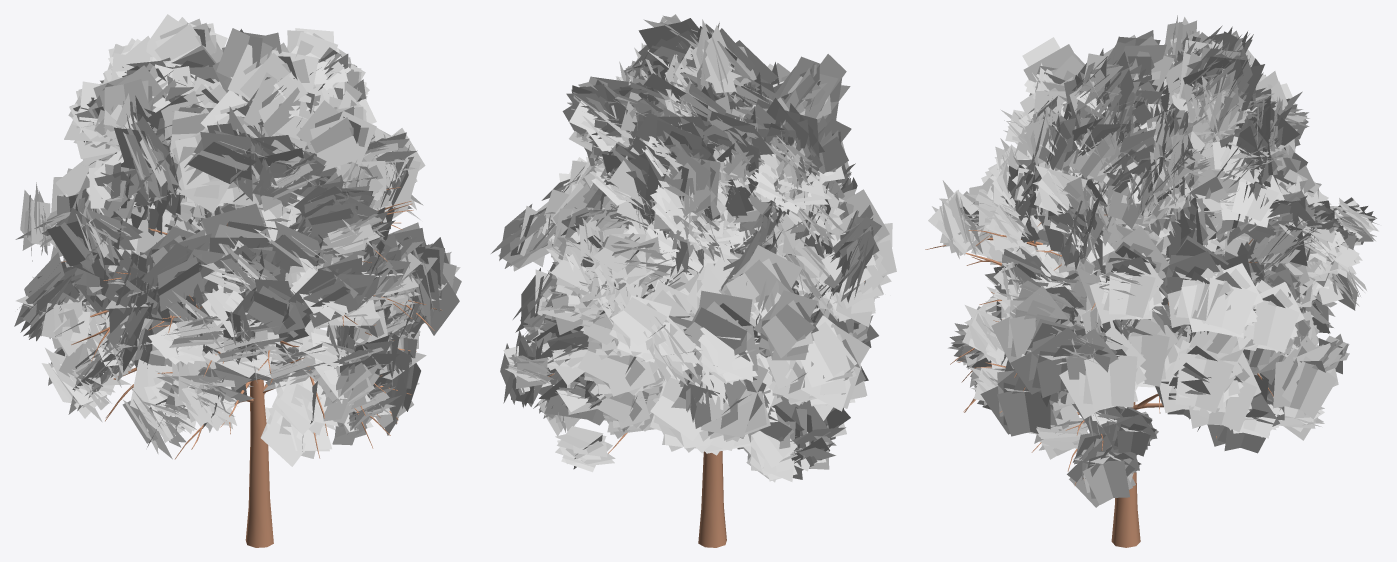
Rendered from test tree.fbx.
3 renders of one model, left to right at view 1: azimuth 30°, elevation 25°; view 2: azimuth 150°, elevation 25°; view 3: azimuth 270°, elevation 25°, orthographic.
Parts seen in each view (by area): view 1: tree.001, stylized leaves.455, stylized leaves.143, stylized leaves.628, stylized leaves.319, stylized leaves.541, stylized leaves.546, stylized leaves.189, stylized leaves.264, stylized leaves.442, stylized leaves.186, stylized leaves.607 (+90 smaller); view 2: stylized leaves.228, stylized leaves.305, stylized leaves.313, stylized leaves.392, stylized leaves.176, stylized leaves.174, stylized leaves.474, stylized leaves.169, stylized leaves.310, stylized leaves.172, stylized leaves.284, stylized leaves.479 (+83 smaller); view 3: stylized leaves.156, stylized leaves.072, stylized leaves.284, stylized leaves.124, stylized leaves.234, stylized leaves.025, stylized leaves.376, stylized leaves.208, stylized leaves.245, tree.001, stylized leaves.080, stylized leaves.619 (+88 smaller).
Part boxes in pixels (left/top/right/bottom): tree.001: left=61, top=187, right=441, bottom=547; stylized leaves.455: left=296, top=100, right=376, bottom=171; stylized leaves.143: left=141, top=228, right=223, bottom=311; stylized leaves.628: left=227, top=42, right=318, bottom=102; stylized leaves.319: left=288, top=252, right=375, bottom=327; stylized leaves.541: left=187, top=130, right=277, bottom=183; stylized leaves.546: left=243, top=72, right=320, bottom=140; stylized leaves.189: left=272, top=373, right=338, bottom=435; stylized leaves.264: left=201, top=203, right=277, bottom=272; stylized leaves.442: left=87, top=65, right=166, bottom=145; stylized leaves.186: left=247, top=279, right=306, bottom=334; stylized leaves.607: left=146, top=14, right=227, bottom=67; stylized leaves.228: left=785, top=315, right=857, bottom=411; stylized leaves.305: left=683, top=290, right=765, bottom=374; stylized leaves.313: left=753, top=290, right=818, bottom=360; stylized leaves.392: left=654, top=146, right=720, bottom=230; stylized leaves.176: left=701, top=365, right=770, bottom=441; stylized leaves.174: left=609, top=295, right=677, bottom=362; stylized leaves.474: left=602, top=137, right=670, bottom=214; stylized leaves.169: left=577, top=324, right=658, bottom=398; stylized leaves.310: left=719, top=245, right=802, bottom=326; stylized leaves.172: left=650, top=375, right=714, bottom=453; stylized leaves.284: left=491, top=204, right=557, bottom=271; stylized leaves.479: left=635, top=107, right=715, bottom=167; stylized leaves.156: left=1059, top=326, right=1146, bottom=419; stylized leaves.072: left=1159, top=336, right=1243, bottom=413; stylized leaves.284: left=1181, top=263, right=1263, bottom=337; stylized leaves.124: left=1273, top=336, right=1338, bottom=419; stylized leaves.234: left=1010, top=319, right=1088, bottom=398; stylized leaves.025: left=980, top=360, right=1062, bottom=436; stylized leaves.376: left=1089, top=253, right=1165, bottom=323; stylized leaves.208: left=1237, top=280, right=1304, bottom=352; stylized leaves.245: left=991, top=285, right=1070, bottom=368; tree.001: left=925, top=214, right=1273, bottom=547; stylized leaves.080: left=1123, top=318, right=1179, bottom=386; stylized leaves.619: left=1106, top=30, right=1174, bottom=91.
Bounding box in the file's own units: 303 × 404 × 330.
